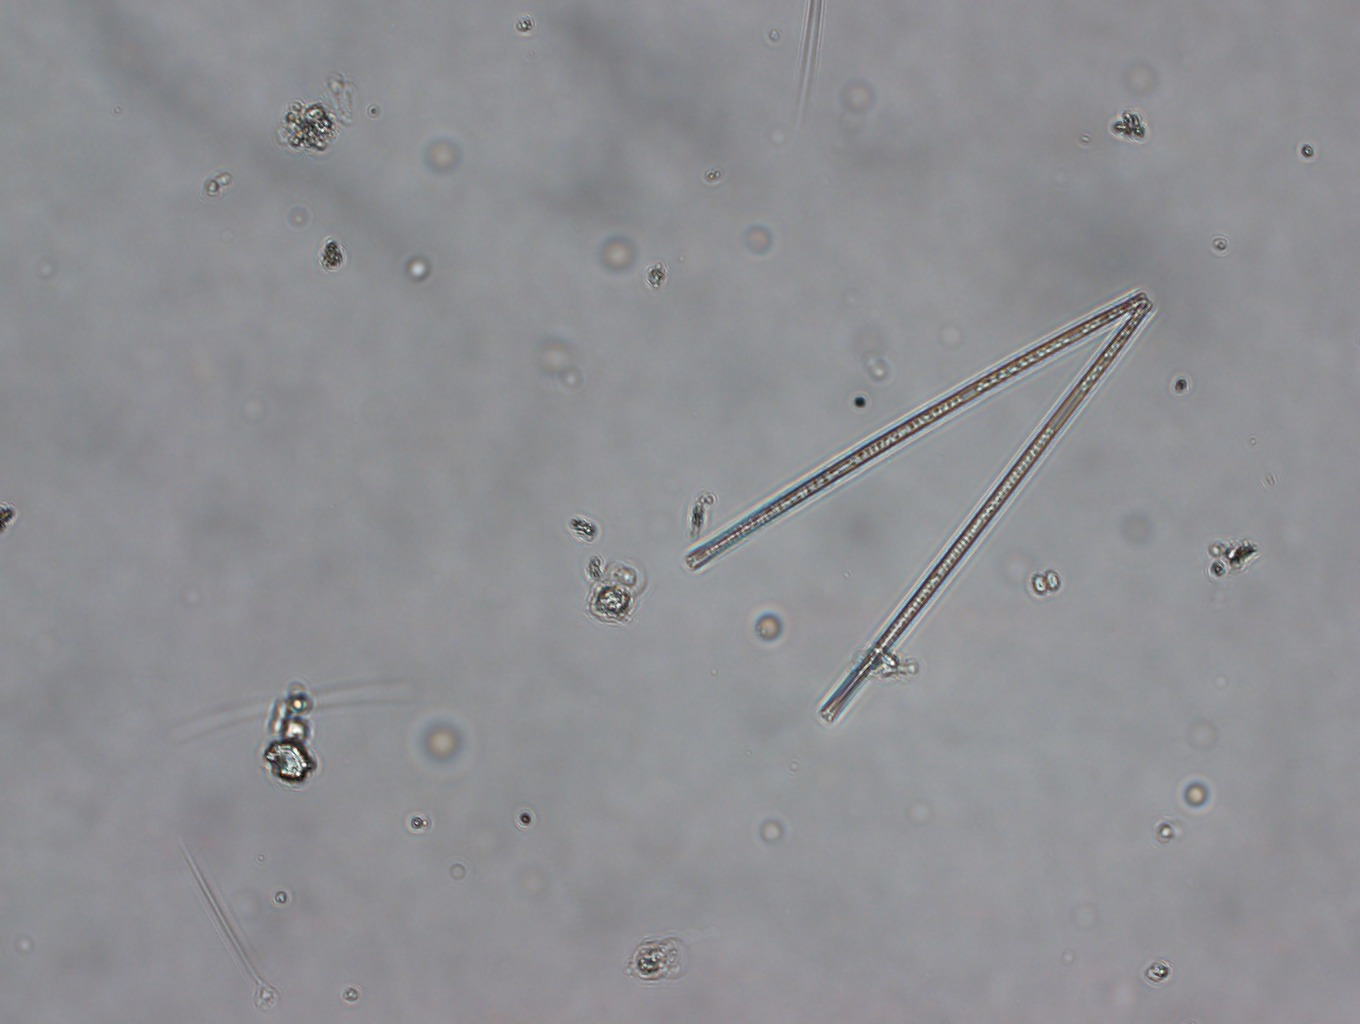thalassionema frauenfeldii: (674, 278, 1159, 727)
